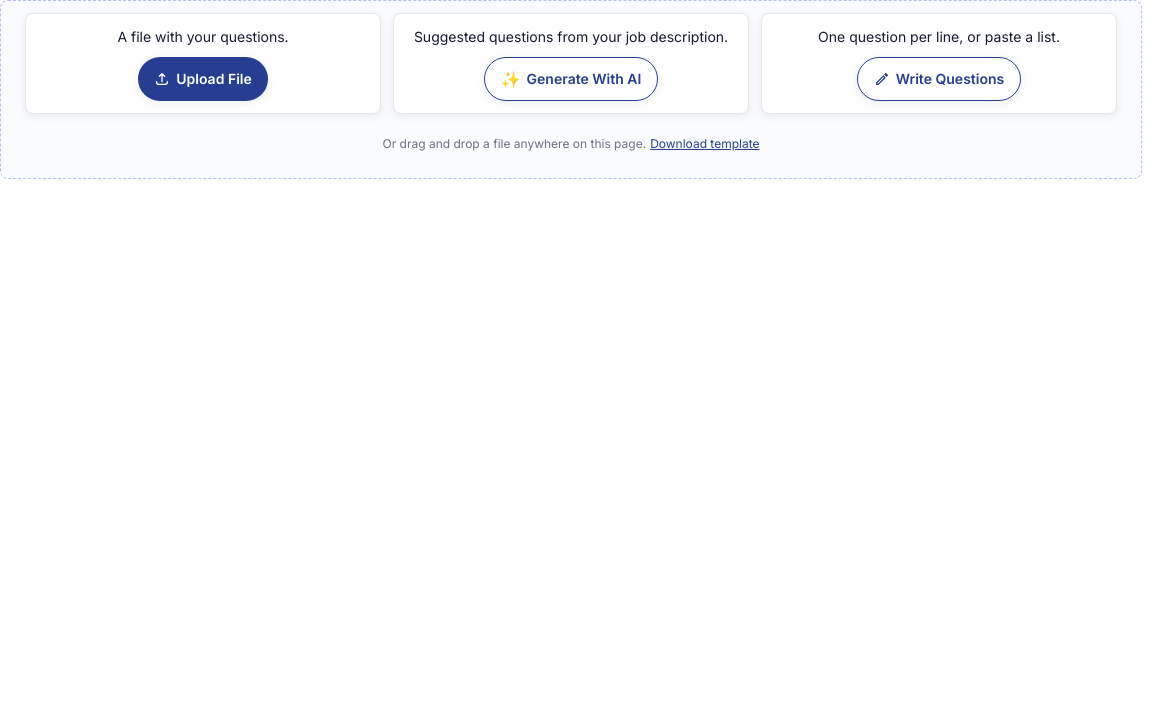
Question entry UI › shows writing help and uses project pill buttons
Click the button "Write Questions": coordinates (939, 79) x1=857 y1=57 x2=1021 y2=101
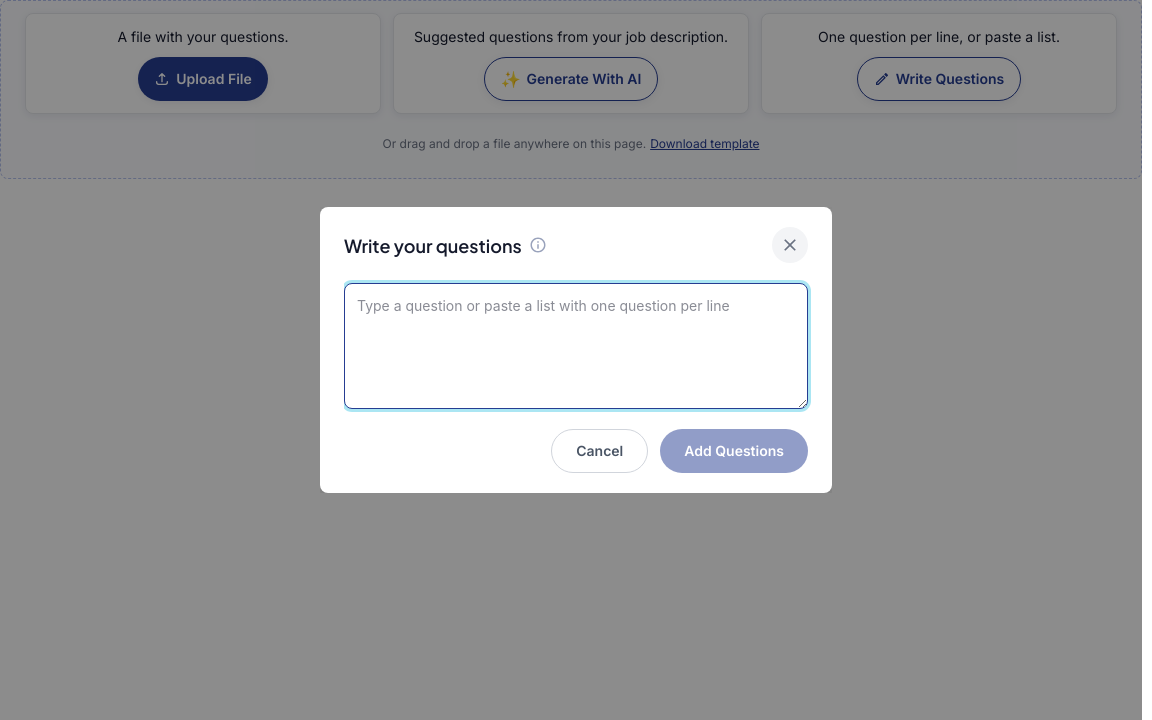
Hover over the button named "How to write questions": coordinates (538, 245) x1=526 y1=233 x2=550 y2=257
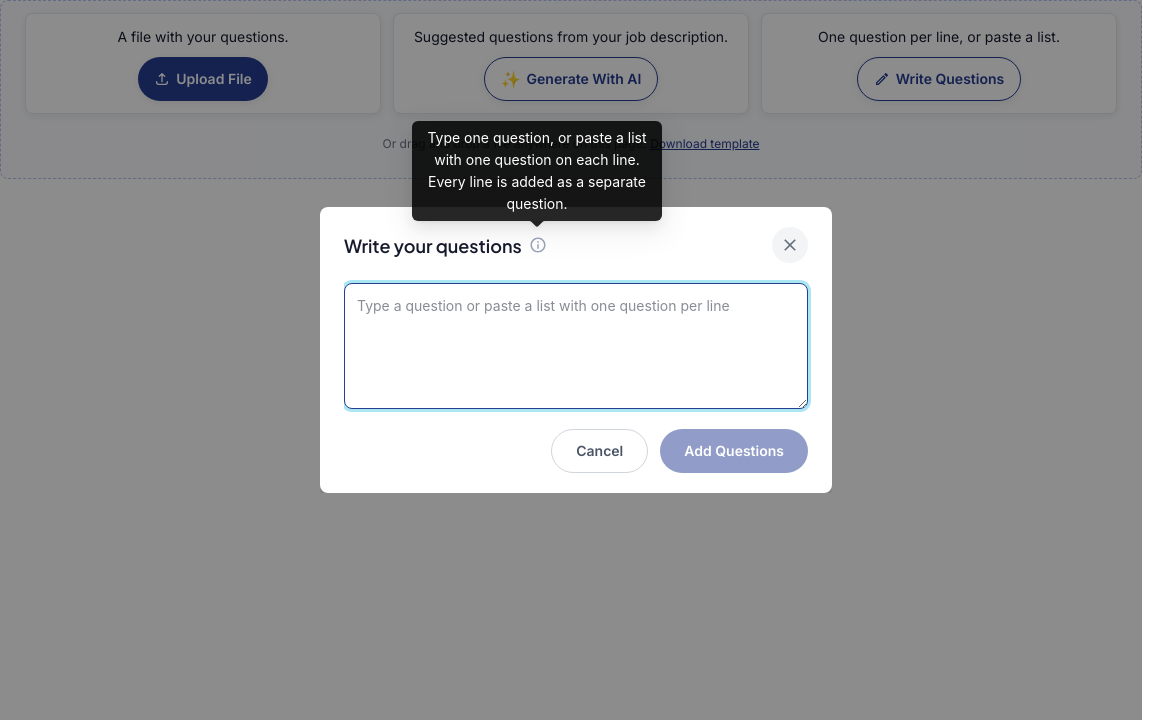
Expected: the tooltip shows "Type one question, or paste a list with one question on each line. Every line is added as a separate question.", x1=427 y1=129 x2=646 y2=212
